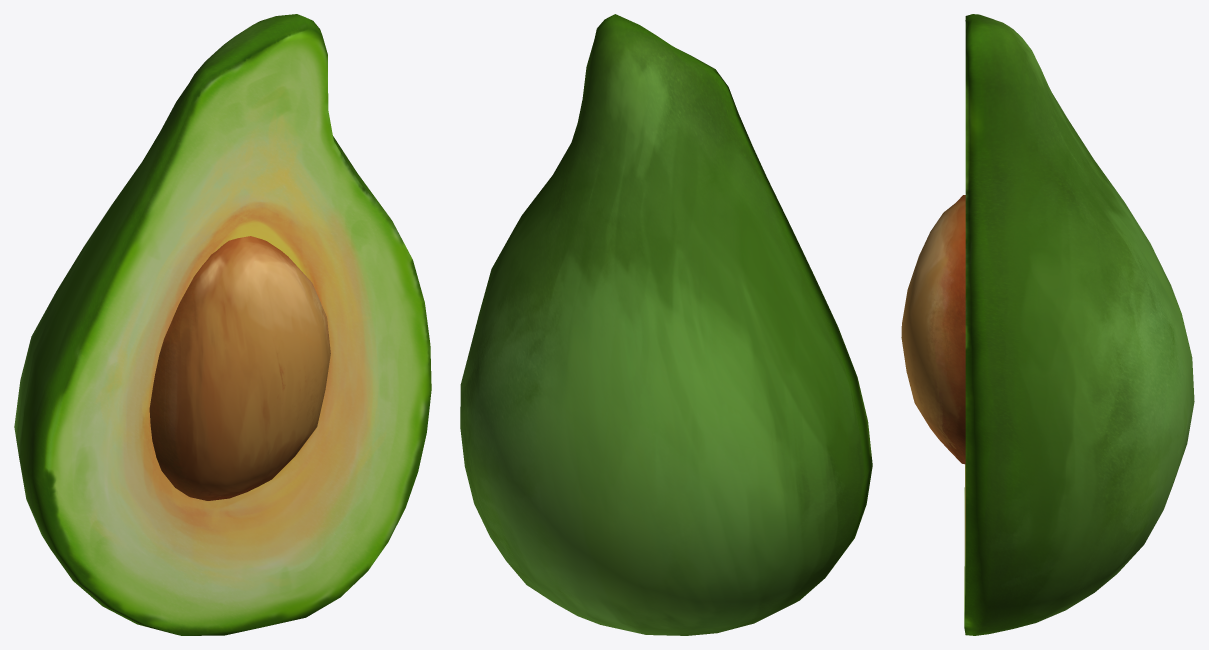
The model's file is Avocado.gltf.
3 renders of one model, left to right at view 1: azimuth 30°, elevation 25°; view 2: azimuth 150°, elevation 25°; view 3: azimuth 270°, elevation 25°, orthographic. The views are drawn at different scales.
Parts seen in each view (by area): view 1: Avocado; view 2: Avocado; view 3: Avocado.
Boxes of the visible parts, x1,y1,x2,y2 form: Avocado: (14, 14, 431, 635); Avocado: (460, 14, 872, 635); Avocado: (901, 14, 1194, 635).
Bounding box in the file's own units: 0.0426 × 0.0629 × 0.0276.
Materials: 1 (1 with a texture image).
